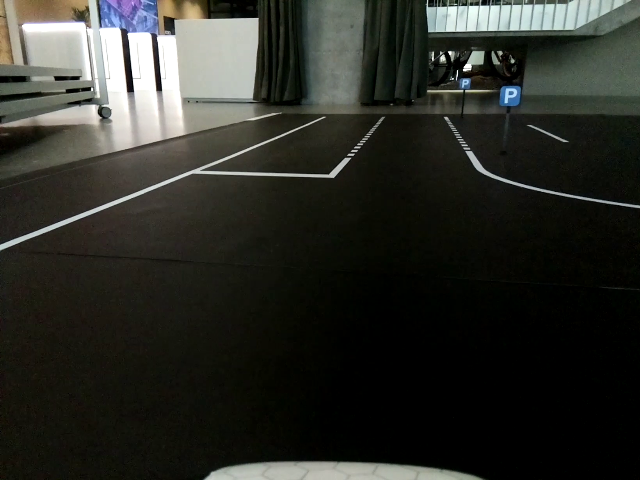park: (499, 87, 520, 106), (462, 77, 472, 89)
